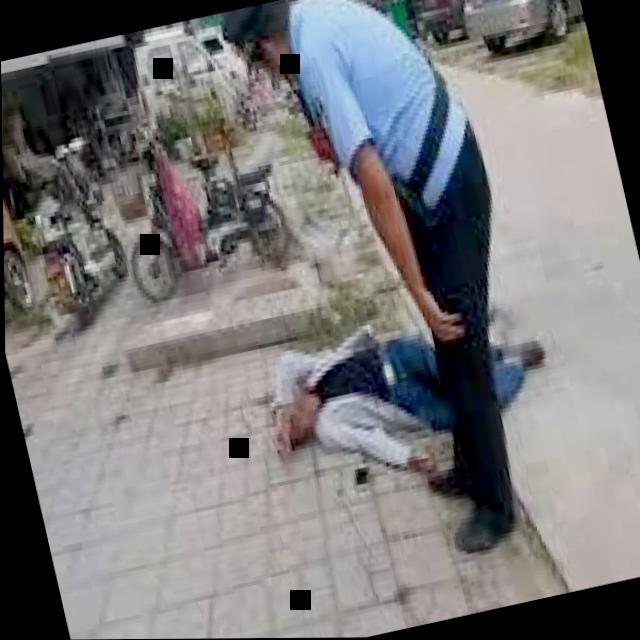Fall-Detected: (219, 248, 578, 518)
